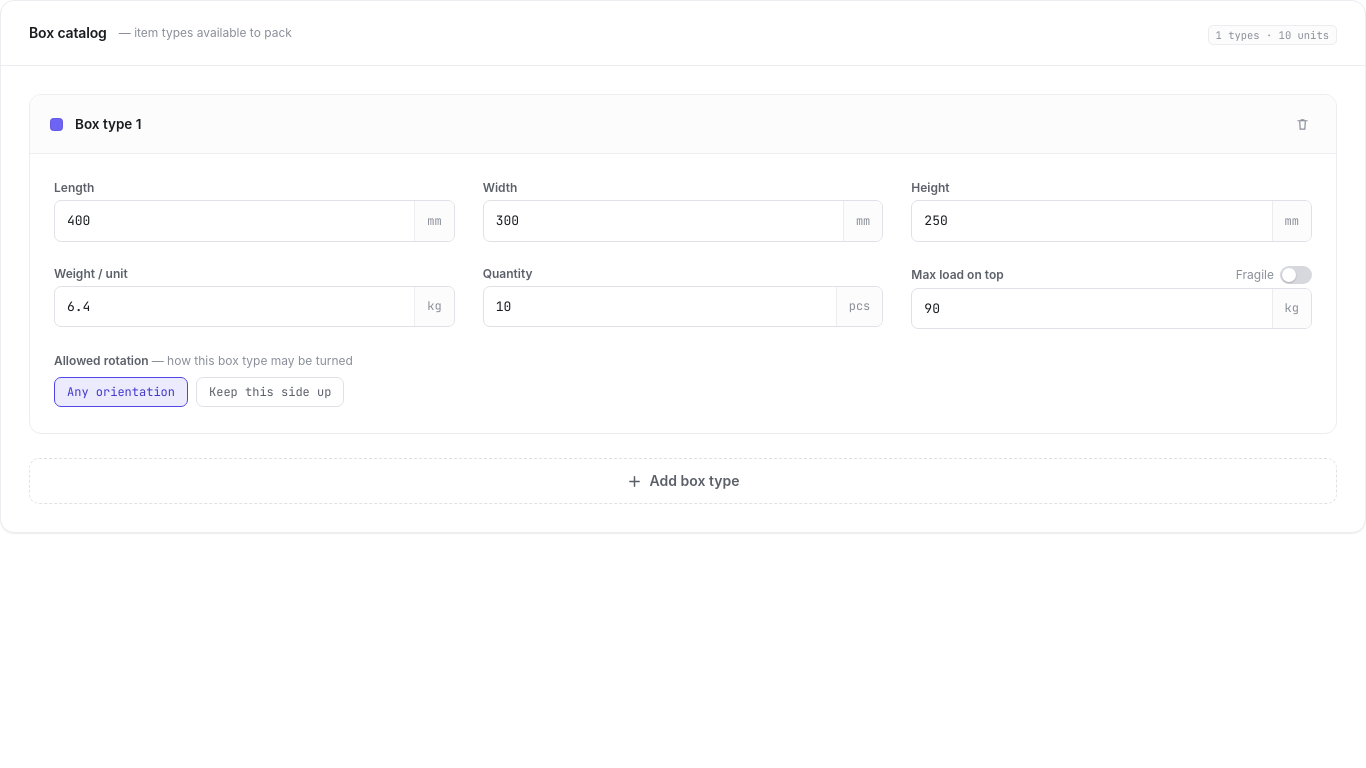
Test case: BoxCatalogCard — add / remove (BOX-01) › removing the last row reveals the empty-catalog state
Click the button named "Remove ".
click(1302, 124)  # box [1288,110,1316,138]
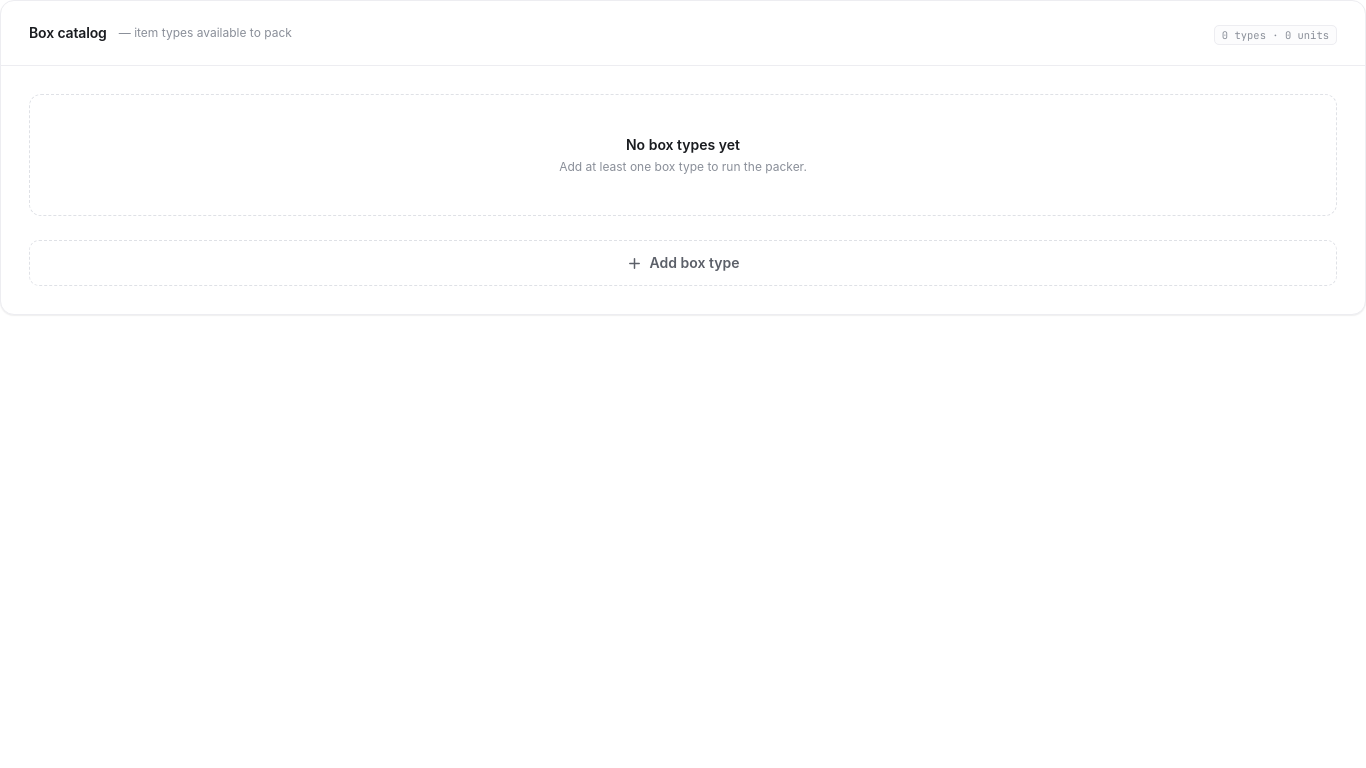
Expected: the text "No box types yet" is shown, [626,135,740,155]
Expected: the text "Add at least one box type to run the packer." is shown, [559,159,807,175]
